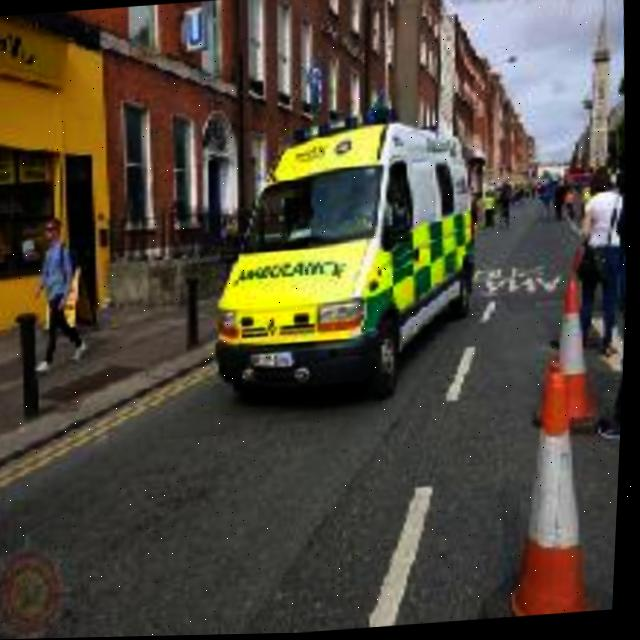emergency: (210, 107, 496, 418)
